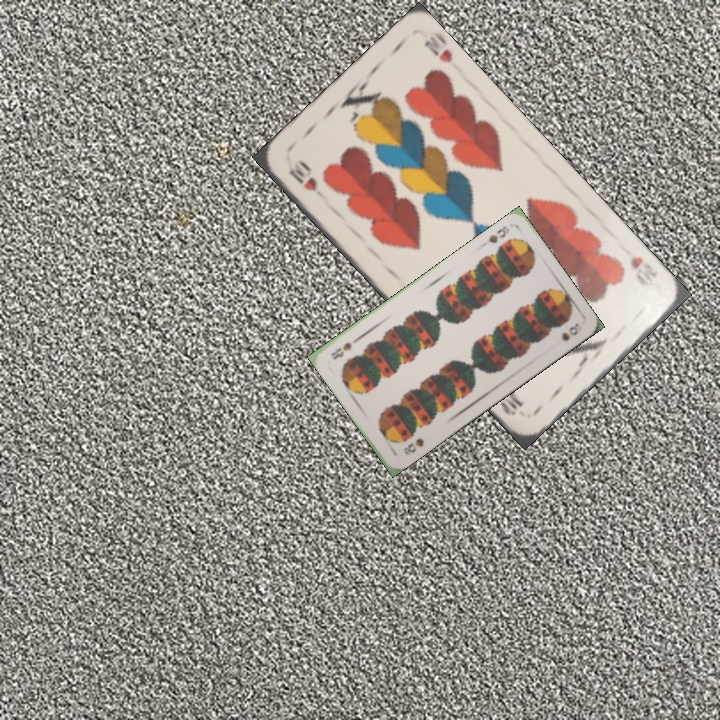H10: (285, 157, 320, 194), (626, 252, 660, 289)
S8: (483, 222, 512, 246), (399, 434, 427, 457)
